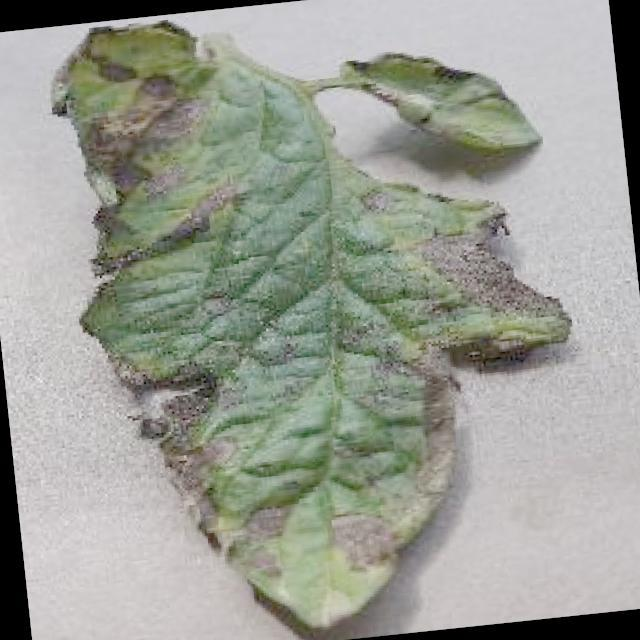Tomato Early blight leaf: (51, 0, 606, 640)
